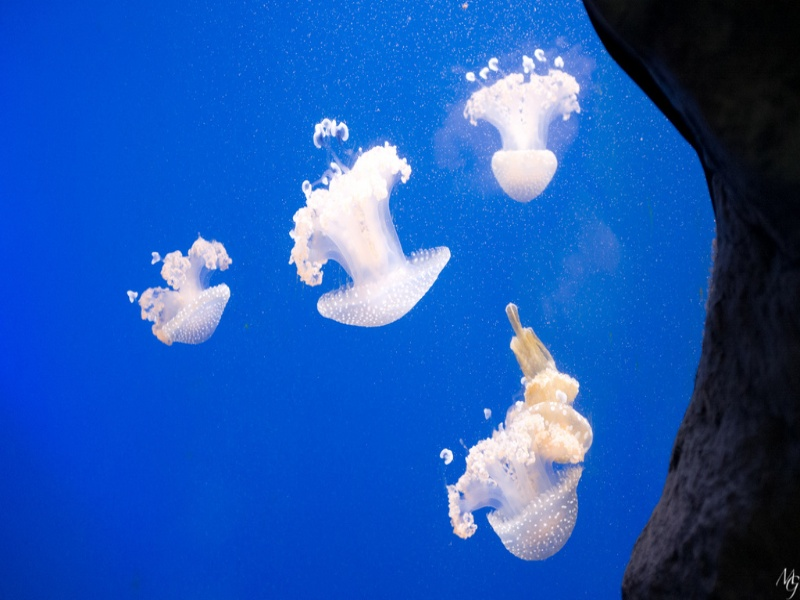Jellyfish: (435, 301, 590, 562), (290, 113, 452, 327), (286, 120, 452, 326), (459, 53, 584, 206), (129, 233, 238, 342), (127, 239, 230, 348)
